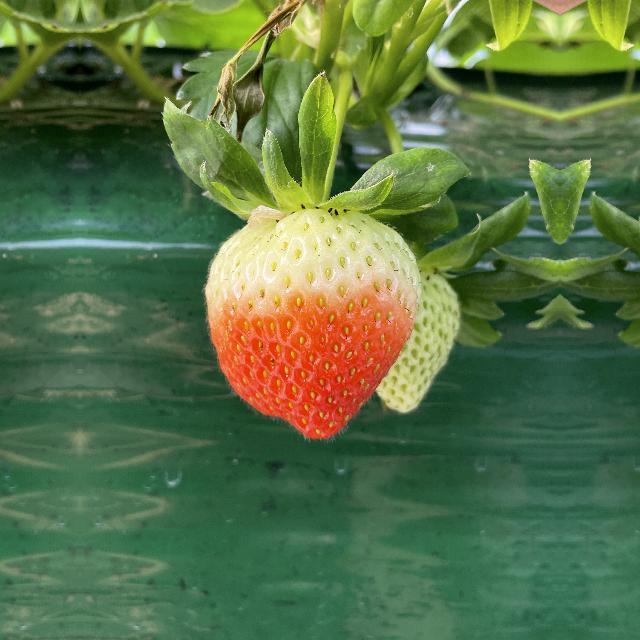Health_25: (368, 269, 464, 415)
Health_75: (205, 206, 438, 444)
